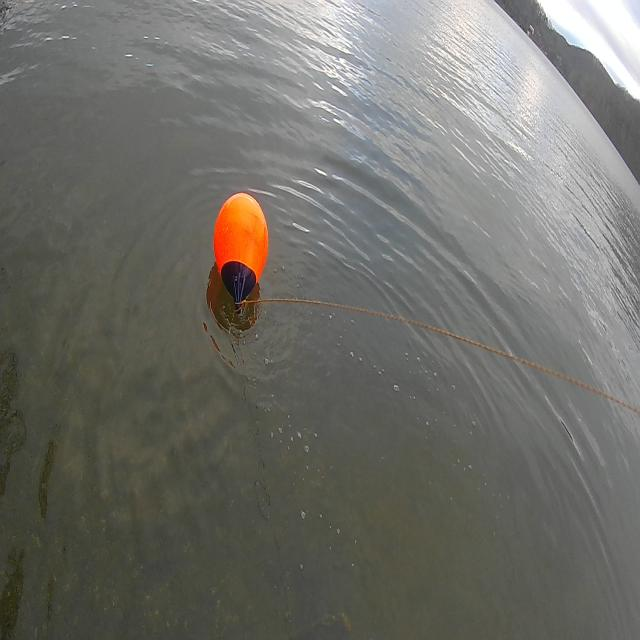Buoy: (211, 187, 273, 310)
